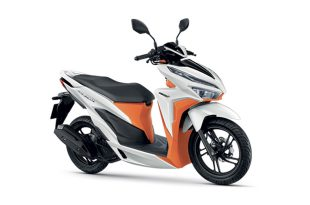motorcycle: (48, 17, 252, 185)
